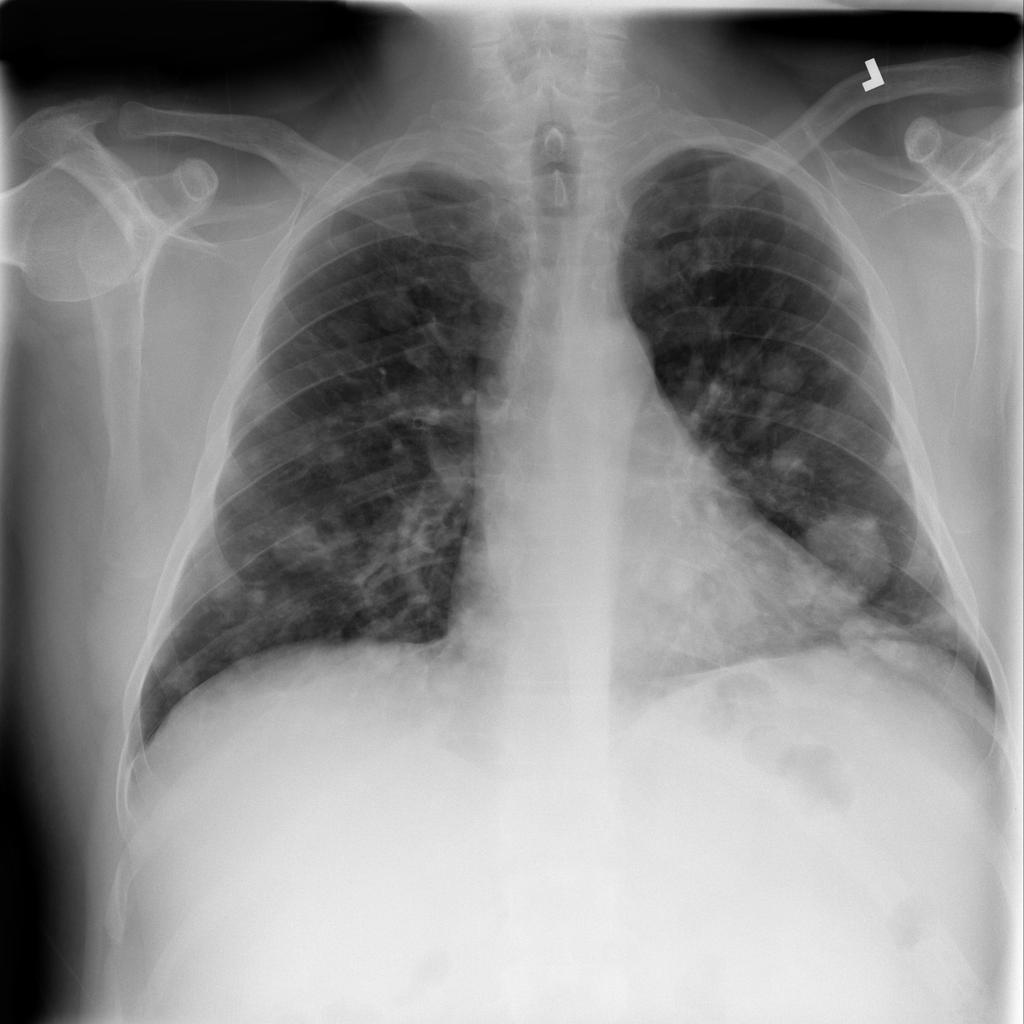nodule: (785, 503, 902, 602), (259, 508, 346, 577), (688, 560, 765, 635), (838, 608, 924, 674), (642, 543, 714, 616), (224, 560, 303, 625), (793, 642, 879, 701), (753, 341, 821, 407), (765, 441, 820, 486), (871, 434, 922, 479), (739, 223, 775, 261)
